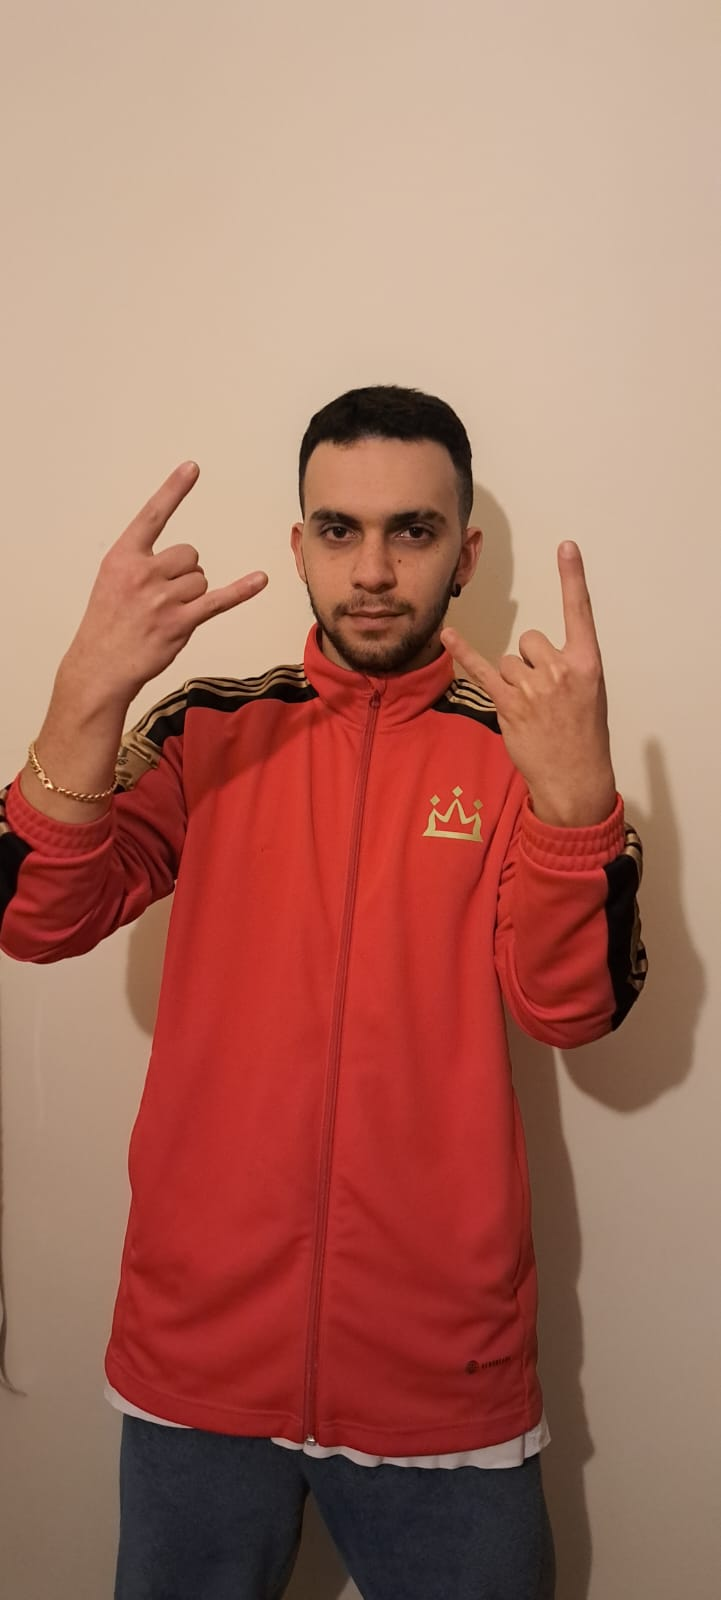rock: (71, 451, 671, 785)
